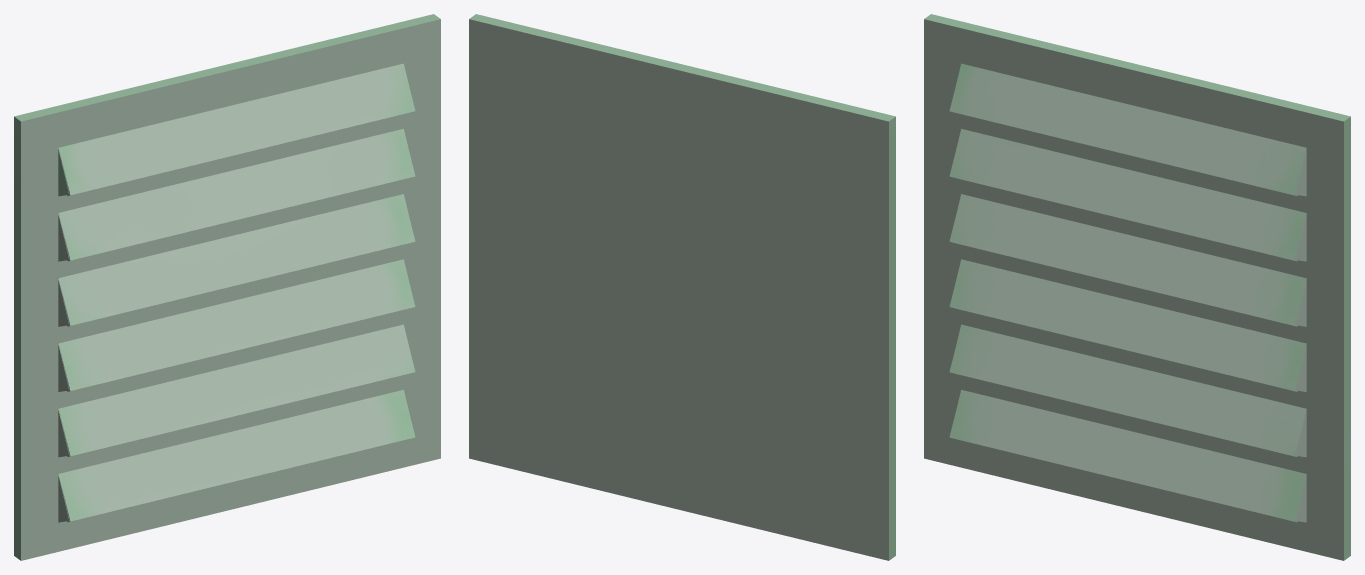
The model's file is vent.fbx.
The picture shows the model from 3 angles, left to right: view 1: azimuth 30°, elevation 25°; view 2: azimuth 150°, elevation 25°; view 3: azimuth 330°, elevation 25°; orthographic projection.
Visible parts, largest first — view 1: pCube20; view 2: pCube20; view 3: pCube20.
Part boxes in pixels (x1,y1,x2,y2): pCube20: (14,14,440,560); pCube20: (469,14,895,560); pCube20: (924,14,1350,560).
Size of the model in its own units: 4.04 by 4.04 by 0.3172.
1 material, 1 textured.
